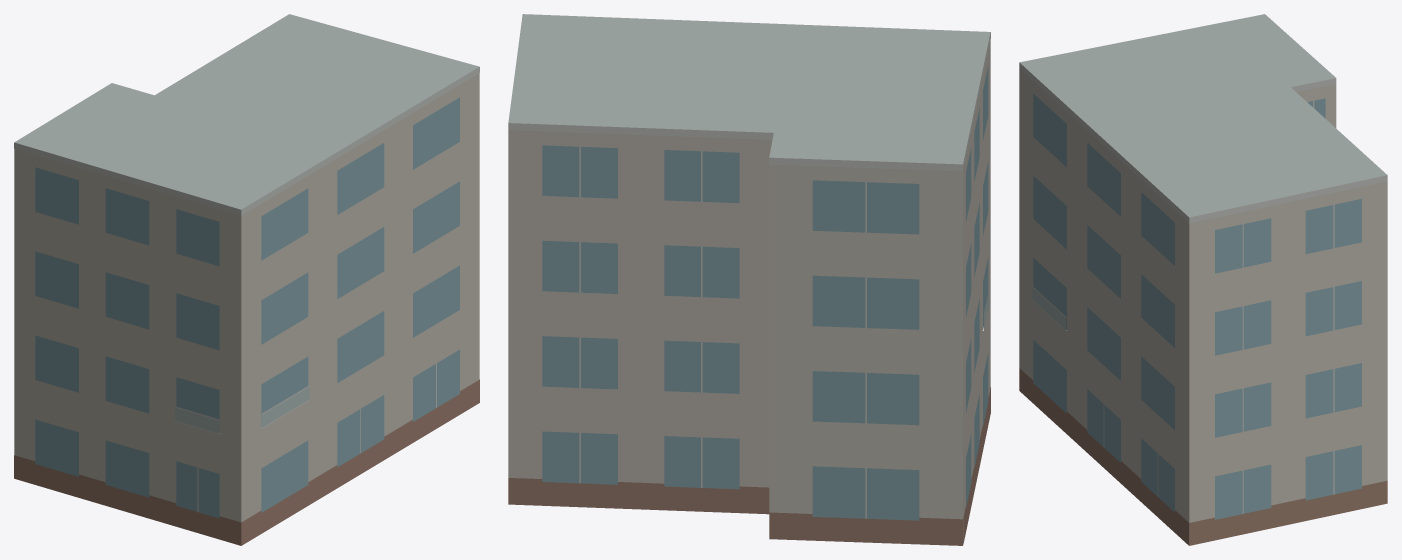
The model's file is survey-upis-32735255.glb.
3 renders of one model, left to right at view 1: azimuth 30°, elevation 25°; view 2: azimuth 150°, elevation 25°; view 3: azimuth 270°, elevation 25°, orthographic. The views are drawn at different scales.
Visible parts, largest first — view 1: survey-upis-32735255.tmp; view 2: survey-upis-32735255.tmp; view 3: survey-upis-32735255.tmp.
Boxes of the visible parts, box(x1,y1,x2,y2) form: survey-upis-32735255.tmp: box(14, 14, 479, 545); survey-upis-32735255.tmp: box(508, 14, 990, 545); survey-upis-32735255.tmp: box(1019, 14, 1387, 545).
Bounding box in the file's own units: 17.82 × 13.4 × 13.63.
